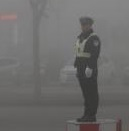person: (71, 15, 103, 123)
